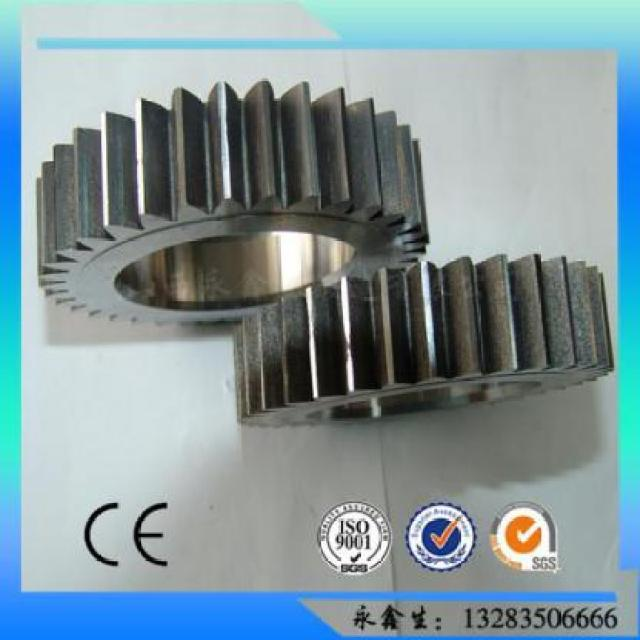Gear: (31, 77, 432, 328), (233, 250, 617, 432)
